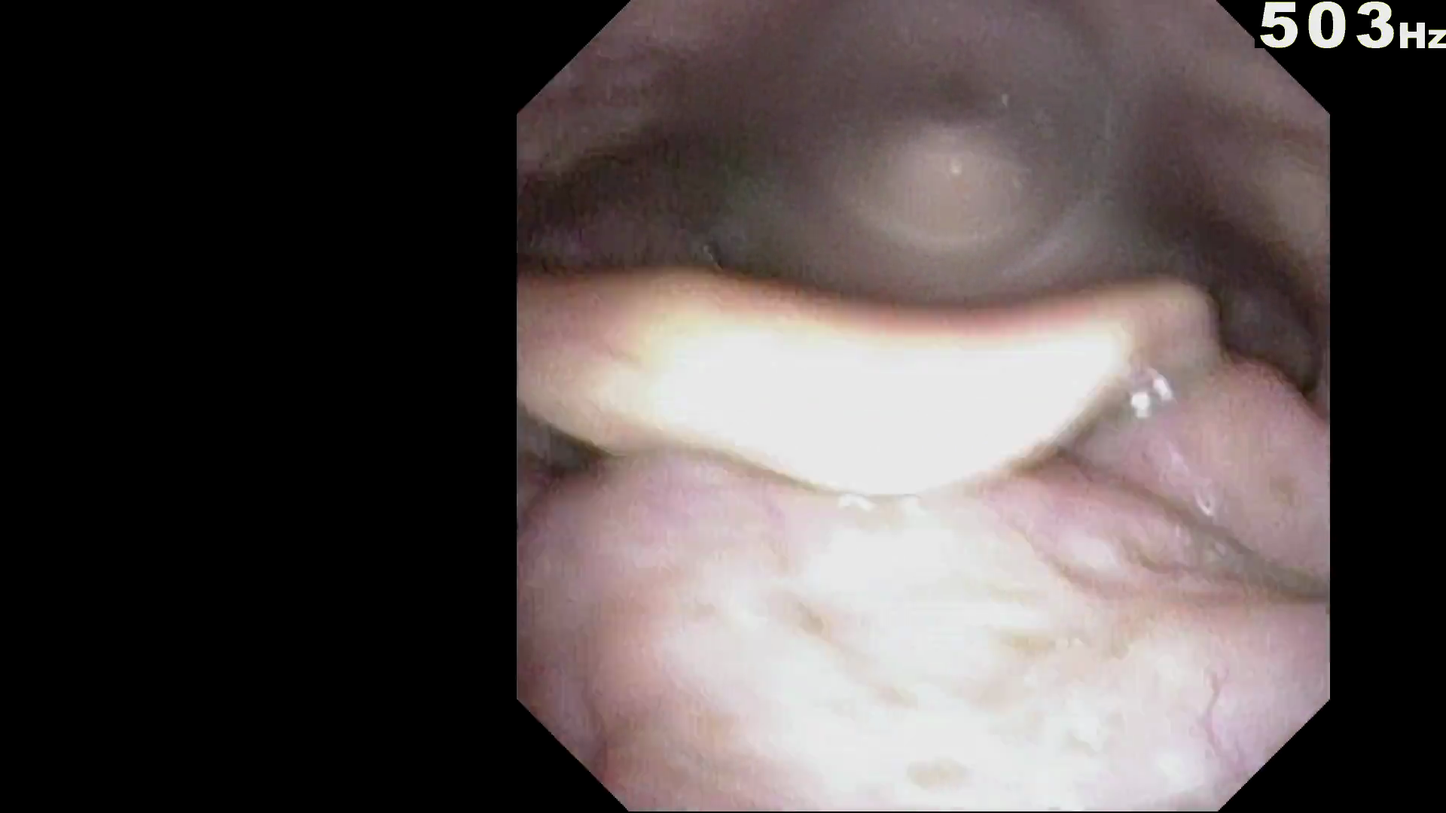epiglottis: (607, 354, 1222, 578)
